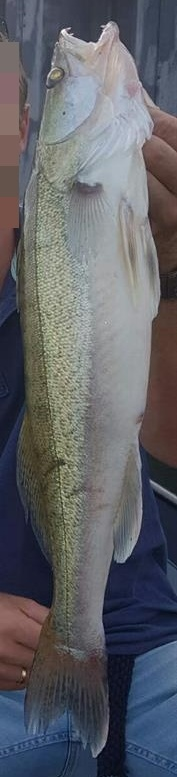Sander lucioperca: (20, 20, 161, 757)
